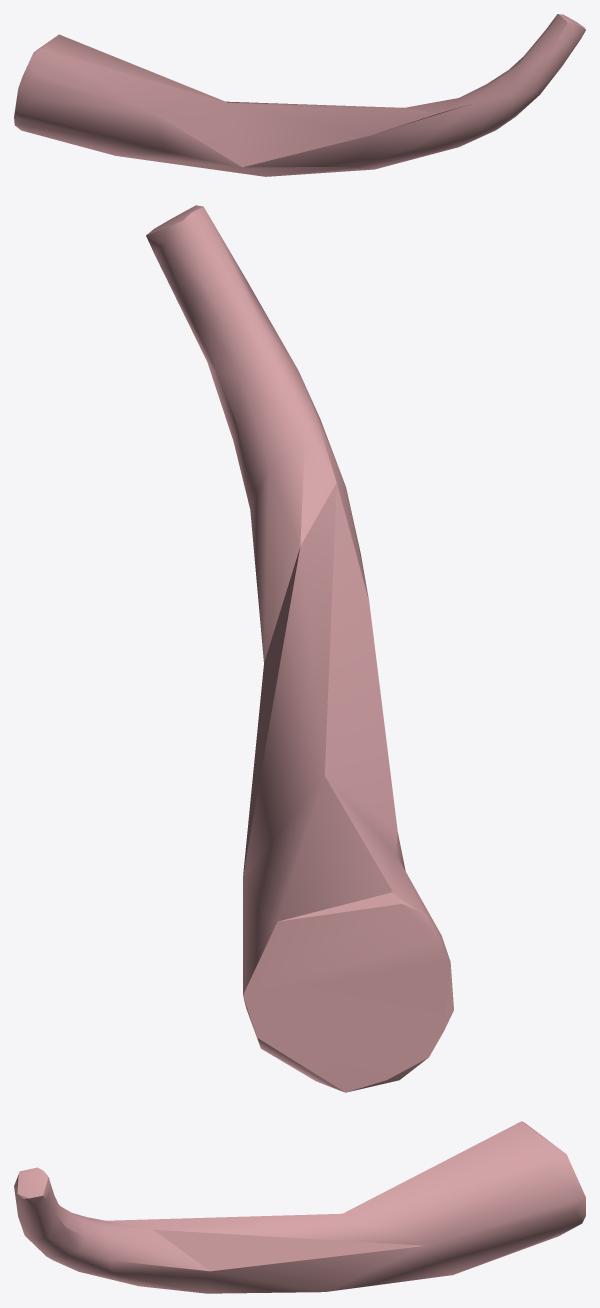
Rendered from fma68222_fj2468.glb.
3 renders of one model, top to bottom at view 1: azimuth 30°, elevation 25°; view 2: azimuth 150°, elevation 25°; view 3: azimuth 270°, elevation 25°, orthographic. The views are drawn at different scales.
Parts seen in each view (by area): view 1: FMA68222_FJ2468; view 2: FMA68222_FJ2468; view 3: FMA68222_FJ2468.
Boxes of the visible parts, left/top/right/bottom form: FMA68222_FJ2468: left=14, top=14, right=585, bottom=176; FMA68222_FJ2468: left=146, top=205, right=453, bottom=1092; FMA68222_FJ2468: left=14, top=1121, right=585, bottom=1293.
Bounding box in the file's own units: 0.025 × 0.0138 × 0.0297.
